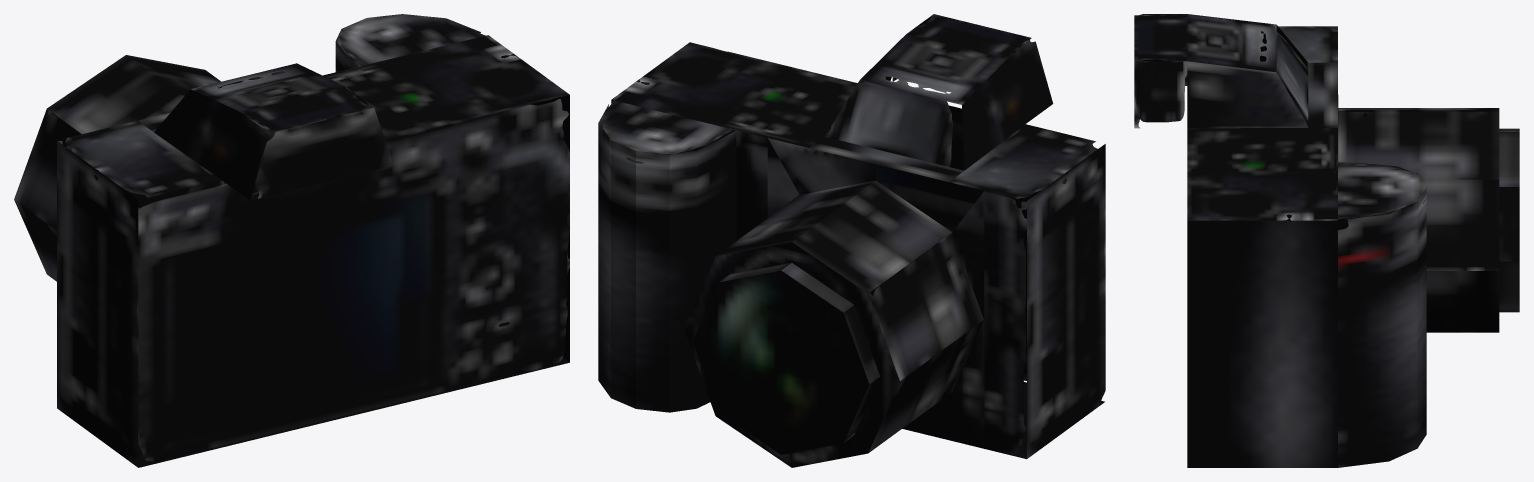
Rendered from camera.fbx.
3 renders of one model, left to right at view 1: azimuth 30°, elevation 25°; view 2: azimuth 150°, elevation 25°; view 3: azimuth 270°, elevation 25°, orthographic. The views are drawn at different scales.
Parts seen in each view (by area): view 1: Camera; view 2: Camera; view 3: Camera.
Boxes of the visible parts, <box> form: Camera: <box>14,14,569,467</box>; Camera: <box>598,14,1105,467</box>; Camera: <box>1134,14,1519,467</box>.
Size of the model in its own units: 469 by 344 by 393.
